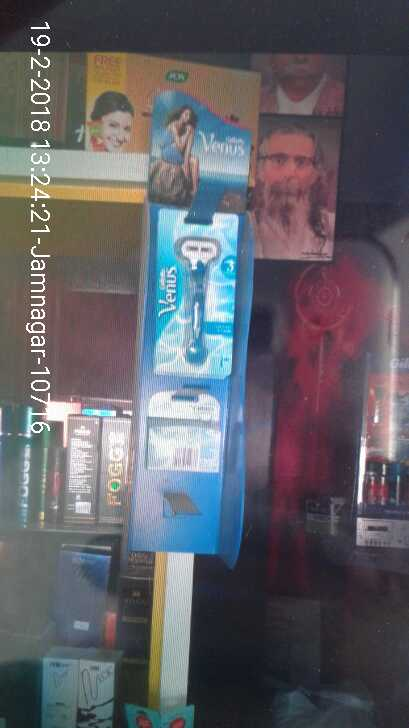venus: (156, 206, 240, 378)
